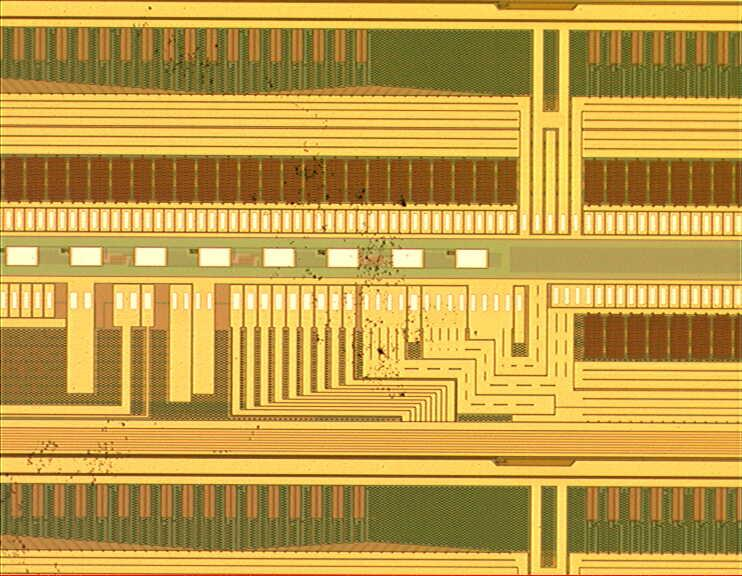PO CONTAMINATION: (1, 5, 481, 576)
